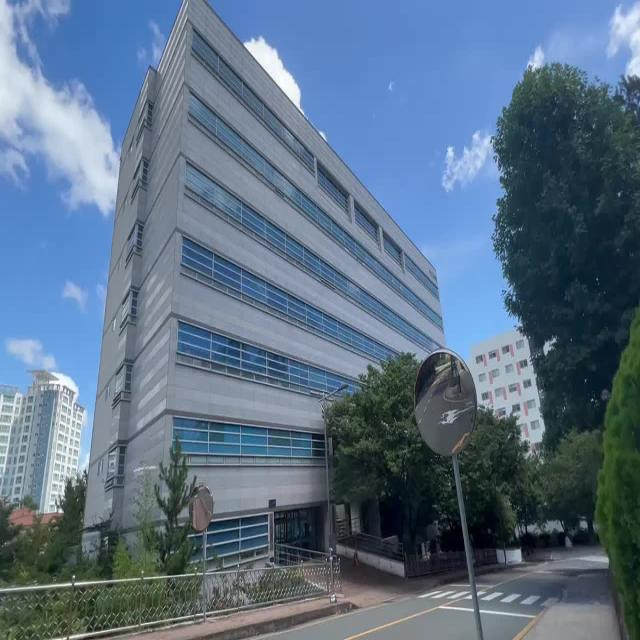building: (98, 27, 330, 533)
